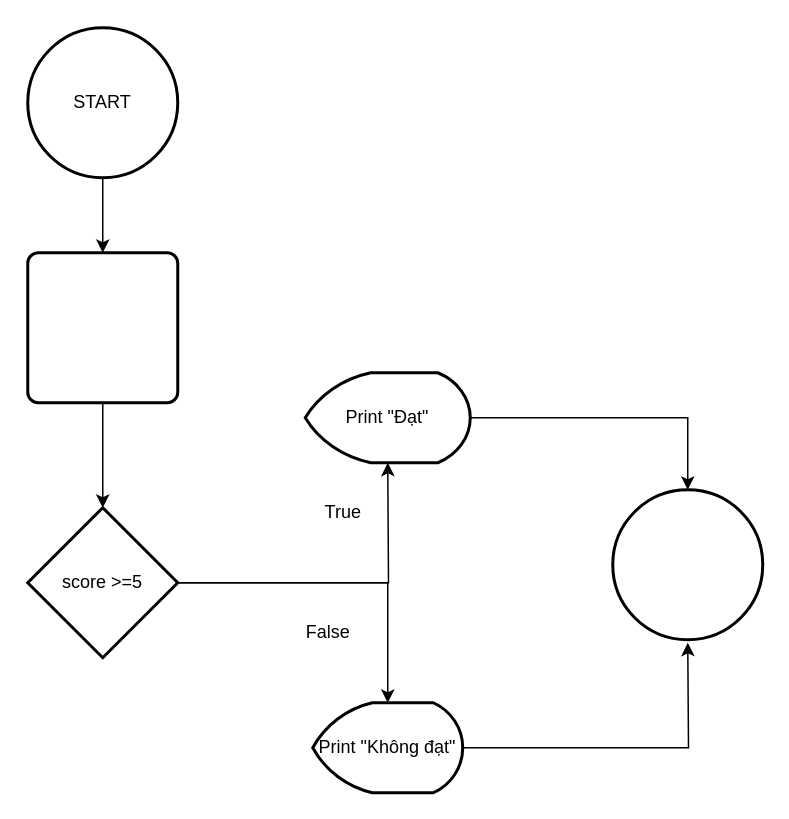
This 789x819 diagram has some shape labels left out. Each missing label, with the box of its shape:
END: (610, 488, 764, 640)
Input score: (26, 250, 178, 404)
